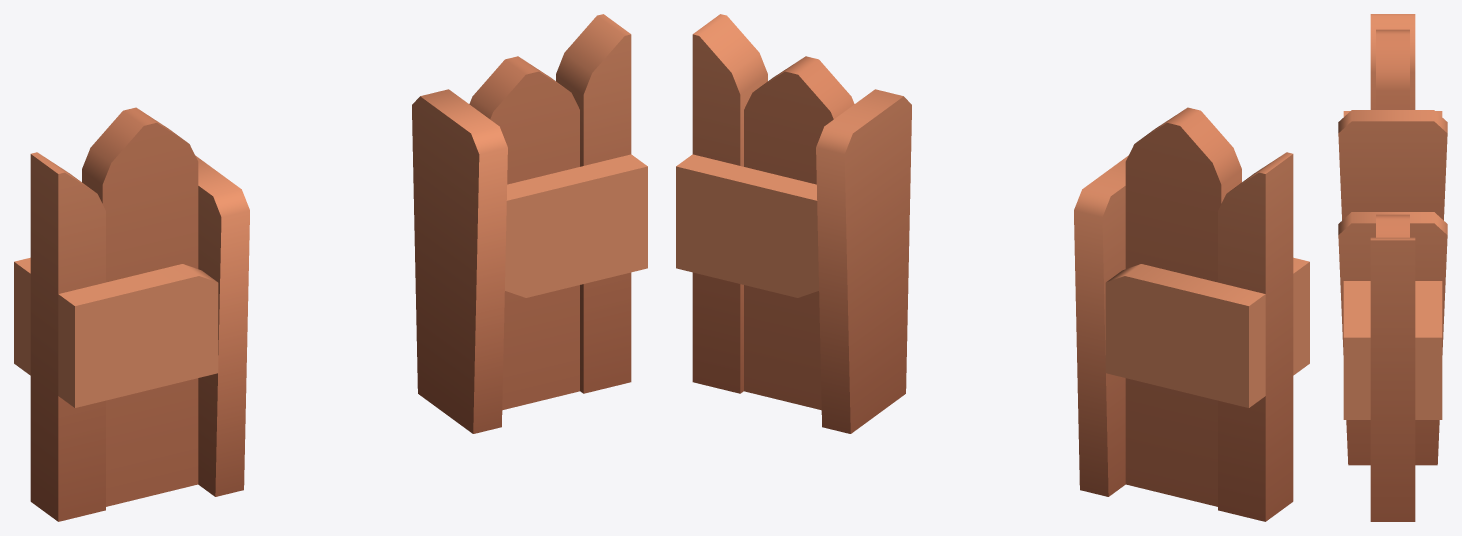
File: fence-gate.glb
The picture shows the model from 3 angles, left to right: view 1: azimuth 30°, elevation 25°; view 2: azimuth 150°, elevation 25°; view 3: azimuth 270°, elevation 25°; orthographic projection. The views are drawn at different scales.
Visible parts, largest first — view 1: fence-gate; view 2: fence-gate; view 3: fence-gate.
Boxes of the visible parts, x1,y1,x2,y2 form: fence-gate: (14,14,647,521); fence-gate: (676,14,1309,521); fence-gate: (1338,14,1447,521).
Size of the model in its own units: 20 by 12.4 by 4.08.
Materials: 1 (1 with a texture image).
